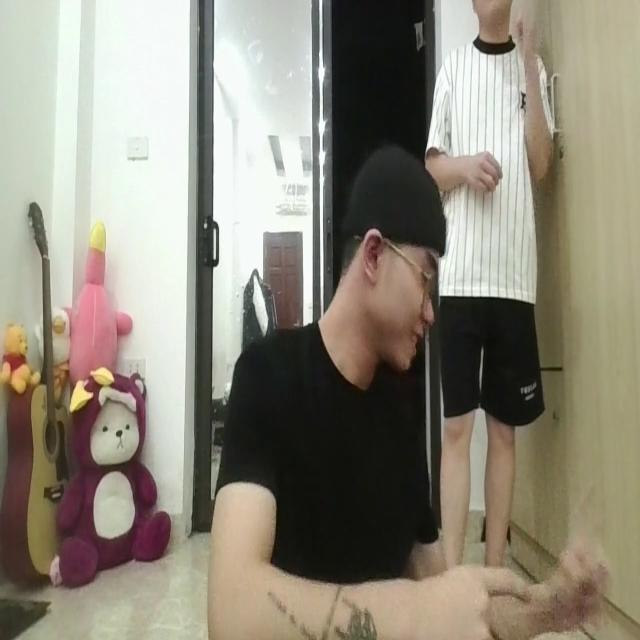extra_person: (428, 0, 553, 588)
student: (211, 148, 440, 640)
